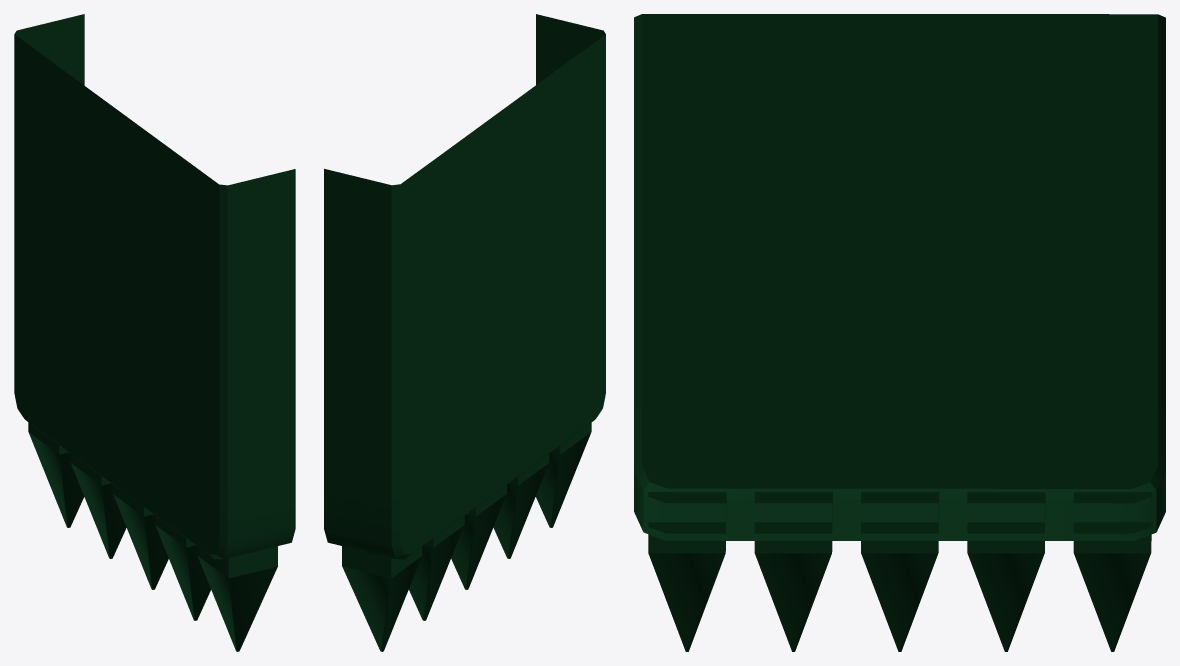
Rendered from Mesh_Crusher_Spikes.fbx.
The picture shows the model from 3 angles, left to right: view 1: azimuth 30°, elevation 25°; view 2: azimuth 150°, elevation 25°; view 3: azimuth 270°, elevation 25°; orthographic projection. The views are drawn at different scales.
Visible parts, largest first — view 1: Mesh_Crusher_Spikes; view 2: Mesh_Crusher_Spikes; view 3: Mesh_Crusher_Spikes.
Part boxes in pixels (x1,y1,x2,y2): Mesh_Crusher_Spikes: (14,14,295,651); Mesh_Crusher_Spikes: (324,14,605,651); Mesh_Crusher_Spikes: (634,14,1165,651).
Bounding box in the file's own units: 4.02 × 25.51 × 20.
